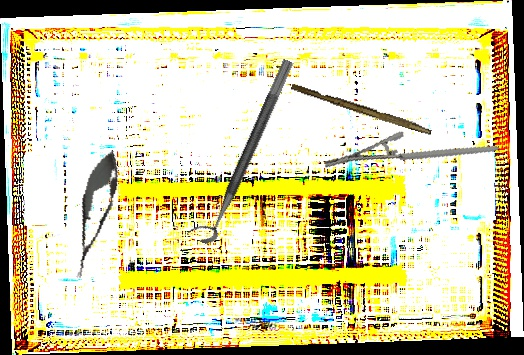Fixation Ring: (186, 51, 295, 248)
Micro Scissor: (63, 146, 127, 282)
Needle Holder: (321, 106, 501, 208)
Scalpel Handle: (289, 82, 434, 136)
